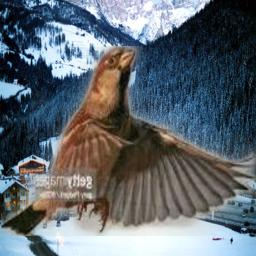Sparrow: (1, 46, 256, 236)
